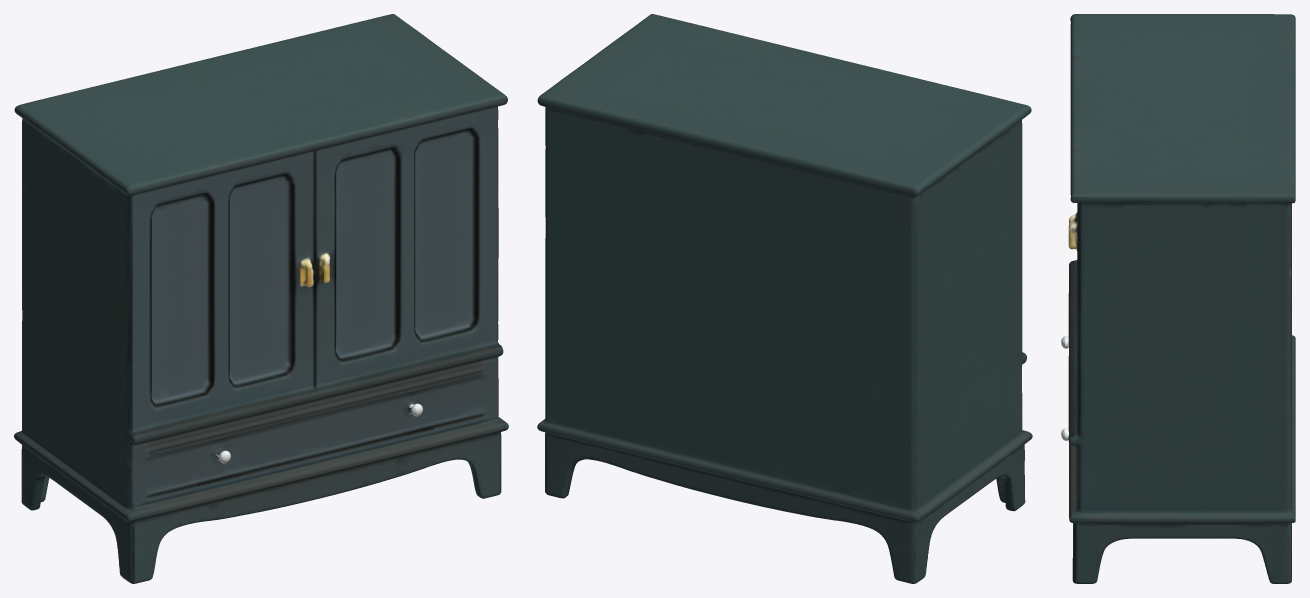
Rendered from cabinet__cabinet#5.glb.
3 renders of one model, left to right at view 1: azimuth 30°, elevation 25°; view 2: azimuth 150°, elevation 25°; view 3: azimuth 270°, elevation 25°, orthographic.
Visible parts, largest first — view 1: tmp6uvjeupx.ply; view 2: tmp6uvjeupx.ply; view 3: tmp6uvjeupx.ply.
Part boxes in pixels (x1,y1,x2,y2): tmp6uvjeupx.ply: (14,14,508,583); tmp6uvjeupx.ply: (537,14,1032,583); tmp6uvjeupx.ply: (1061,14,1295,583).
Size of the model in its own units: 1.99 by 1.99 by 1.08.
Materials: 1 (1 with a texture image).
